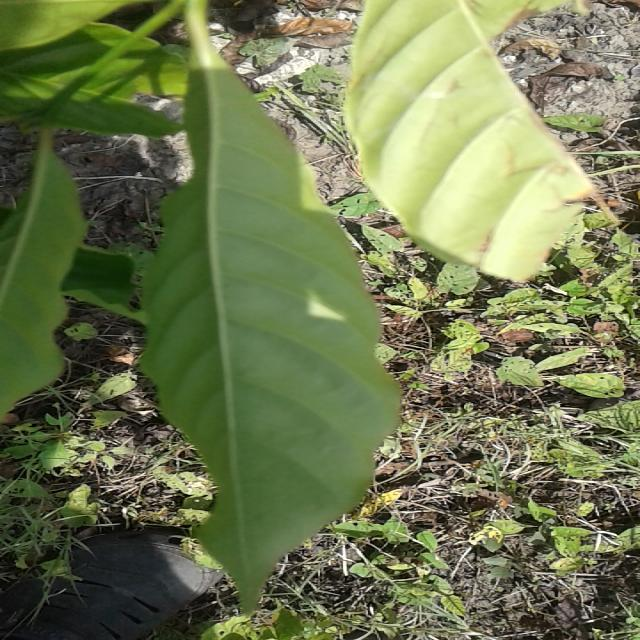Sanas: (140, 0, 401, 618)
